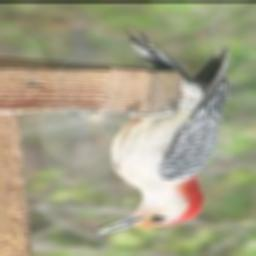Woodpecker: (86, 29, 229, 237)
